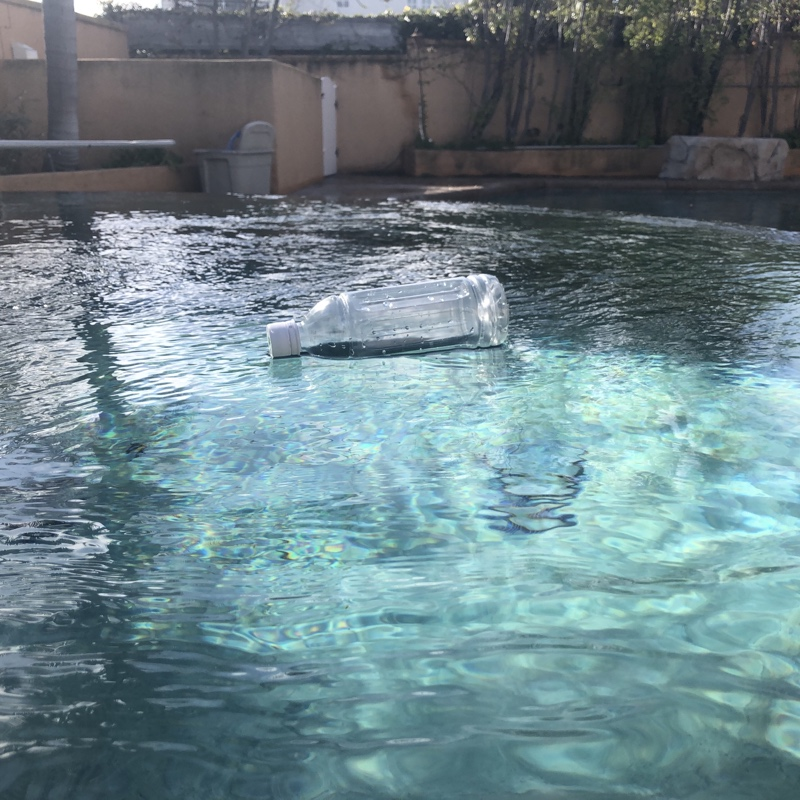Plastic Bottle: (261, 270, 511, 360)
